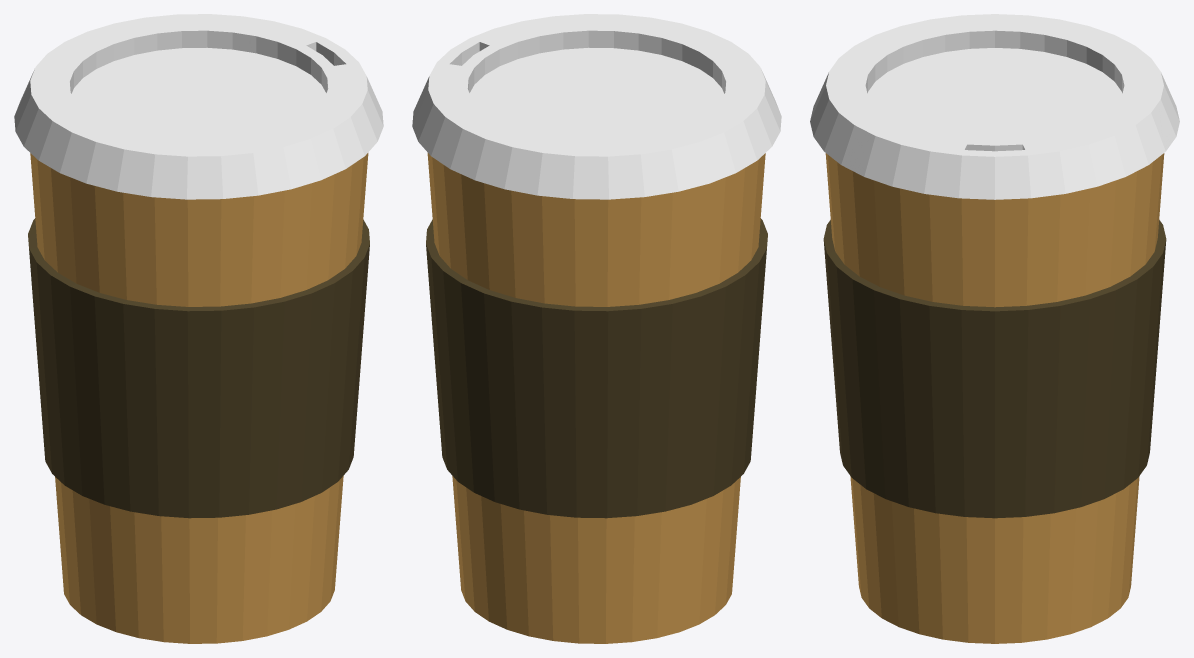
Rendered from coffee cup.fbx.
3 views of the same model, side by side, from view 1: azimuth 30°, elevation 25°; view 2: azimuth 150°, elevation 25°; view 3: azimuth 270°, elevation 25° (orthographic).
Visible parts, largest first — view 1: Cylinder; view 2: Cylinder; view 3: Cylinder.
Boxes of the visible parts, box(x1,y1,x2,y2) form: Cylinder: box(14, 14, 383, 643); Cylinder: box(412, 14, 781, 643); Cylinder: box(810, 14, 1179, 643).
Bounding box in the file's own units: 272 × 406 × 272.
